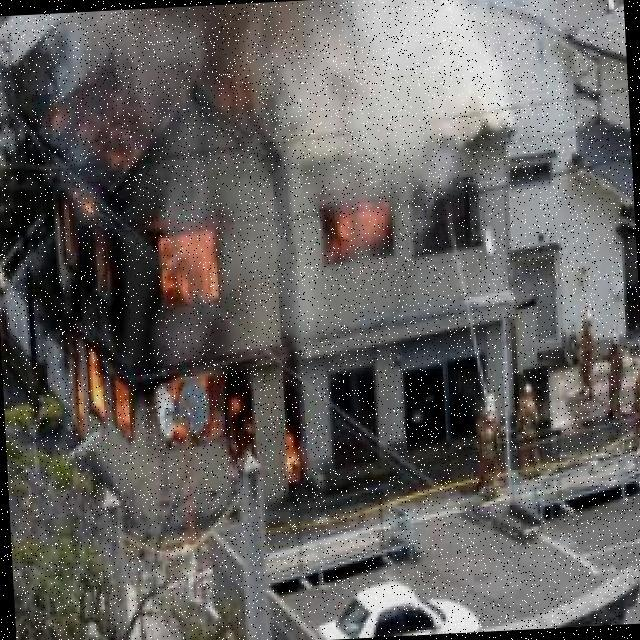Fire: (45, 102, 313, 498), (327, 191, 410, 261)
